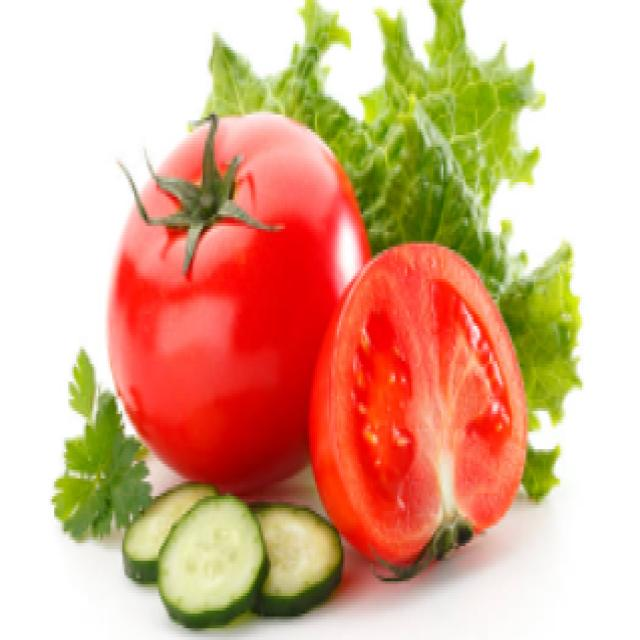Tomato: (127, 98, 360, 487), (301, 241, 523, 553)
